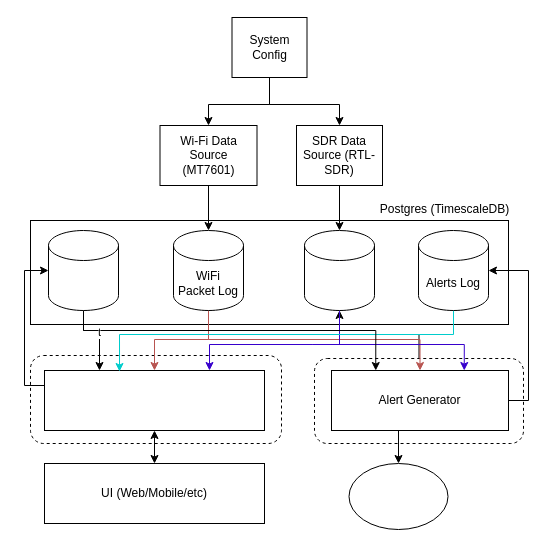
The diagram is 554 pixels wide and 547 high, and some of its shapes have lost their labels. The centre of each missing label's shape, as x and y in pixels:
"Allow List" goes at pixel 83 270.
"API (JSON)" goes at pixel 154 400.
"Email/Text/Etc" goes at pixel 398 496.
"RF Activity Log" goes at pixel 339 270.
